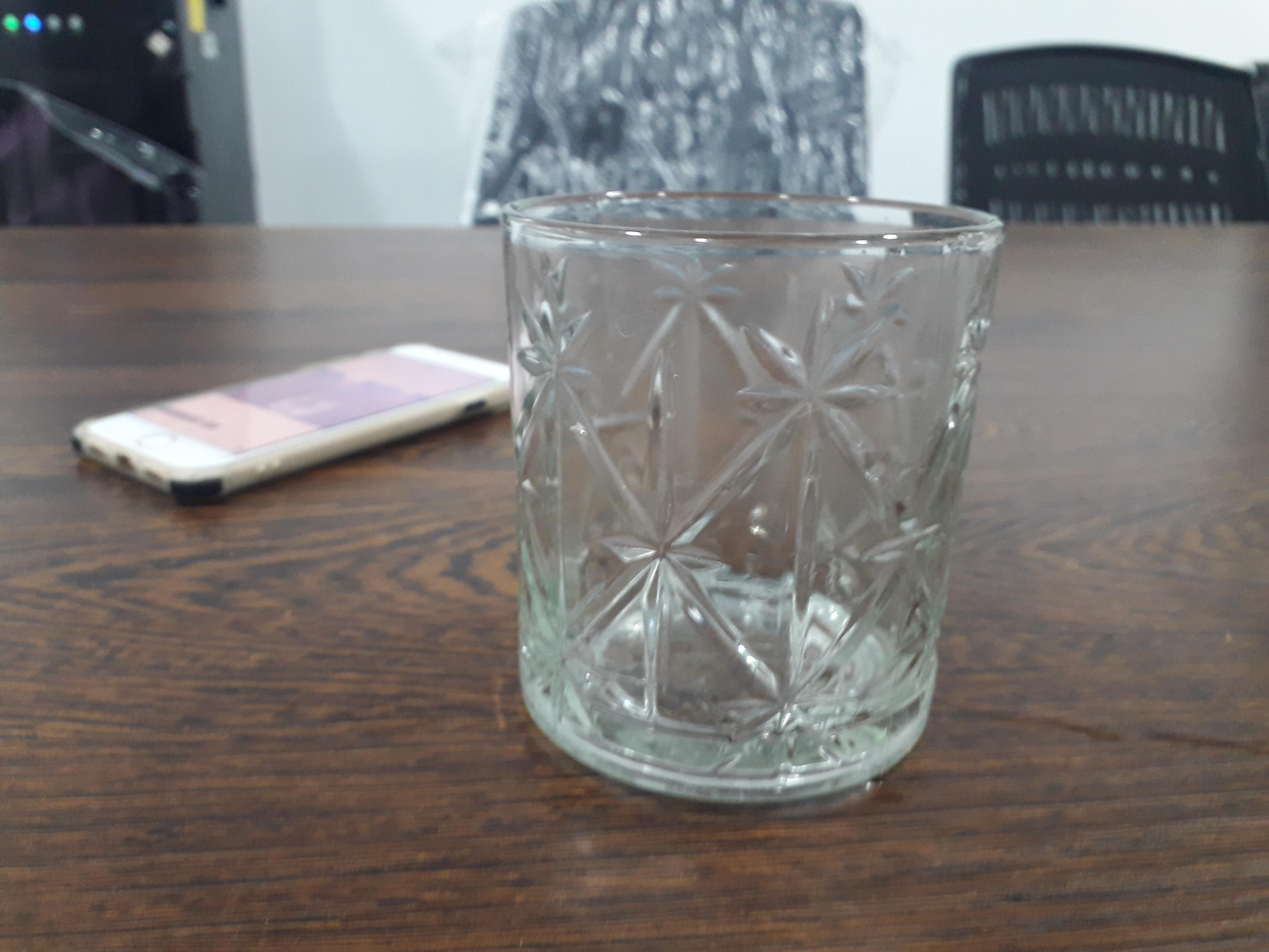glass-normal: (494, 192, 1010, 815)
